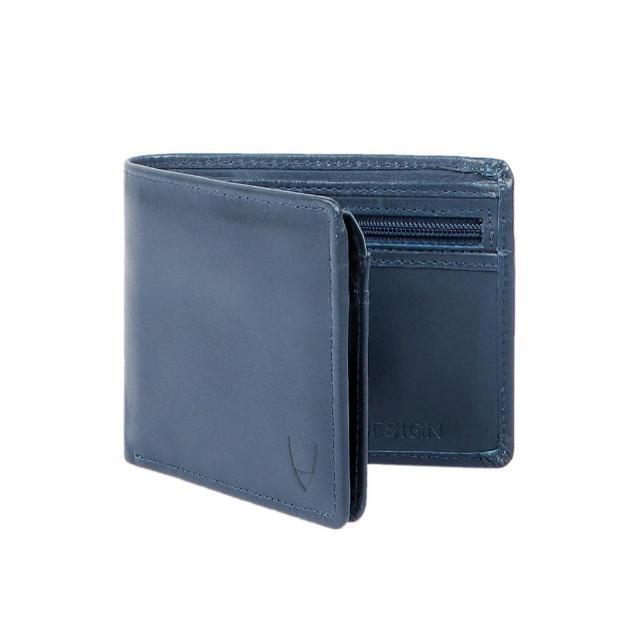Wallet: (122, 153, 516, 529)
